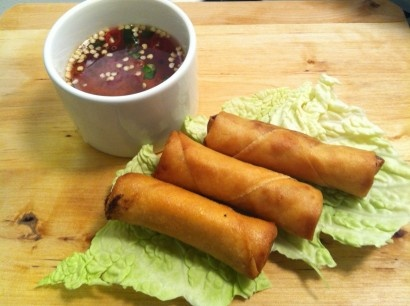background: (19, 34, 262, 146), (41, 11, 119, 46)
